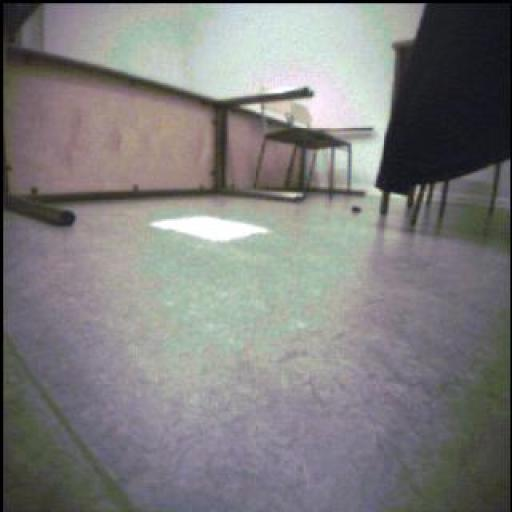Arrow: (155, 215, 262, 249)
